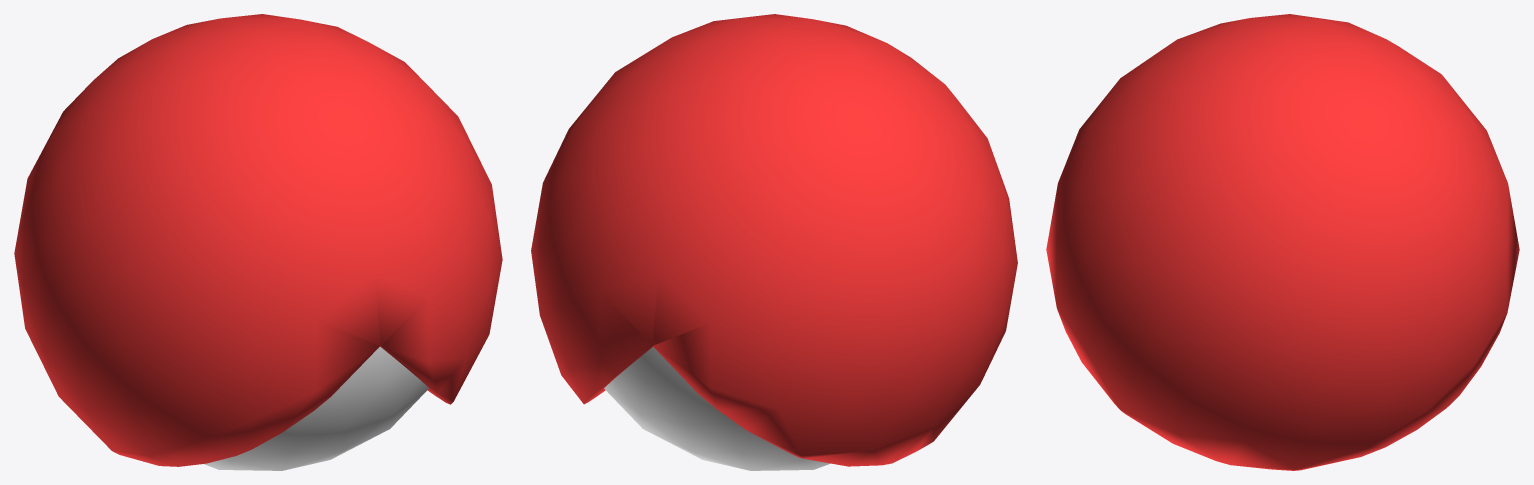
File: block.obj
3 renders of one model, left to right at view 1: azimuth 30°, elevation 25°; view 2: azimuth 150°, elevation 25°; view 3: azimuth 270°, elevation 25°, orthographic. The views are drawn at different scales.
Parts seen in each view (by area): view 1: Icosphere, Icosphere.001; view 2: Icosphere, Icosphere.001; view 3: Icosphere.
Boxes of the visible parts, <box> form: Icosphere: <box>14,14,502,466</box>; Icosphere.001: <box>204,346,428,470</box>; Icosphere: <box>531,14,1017,466</box>; Icosphere.001: <box>604,347,830,470</box>; Icosphere: <box>1046,14,1519,470</box>.
Size of the model in its own units: 2 by 1.89 by 2.
